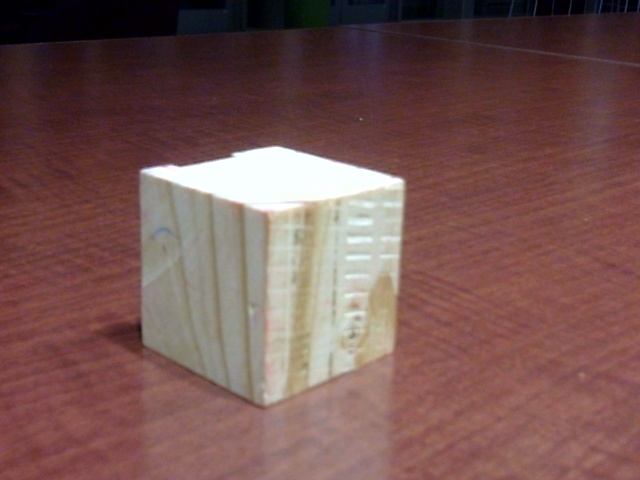NormalBlock: (139, 170, 403, 408)
